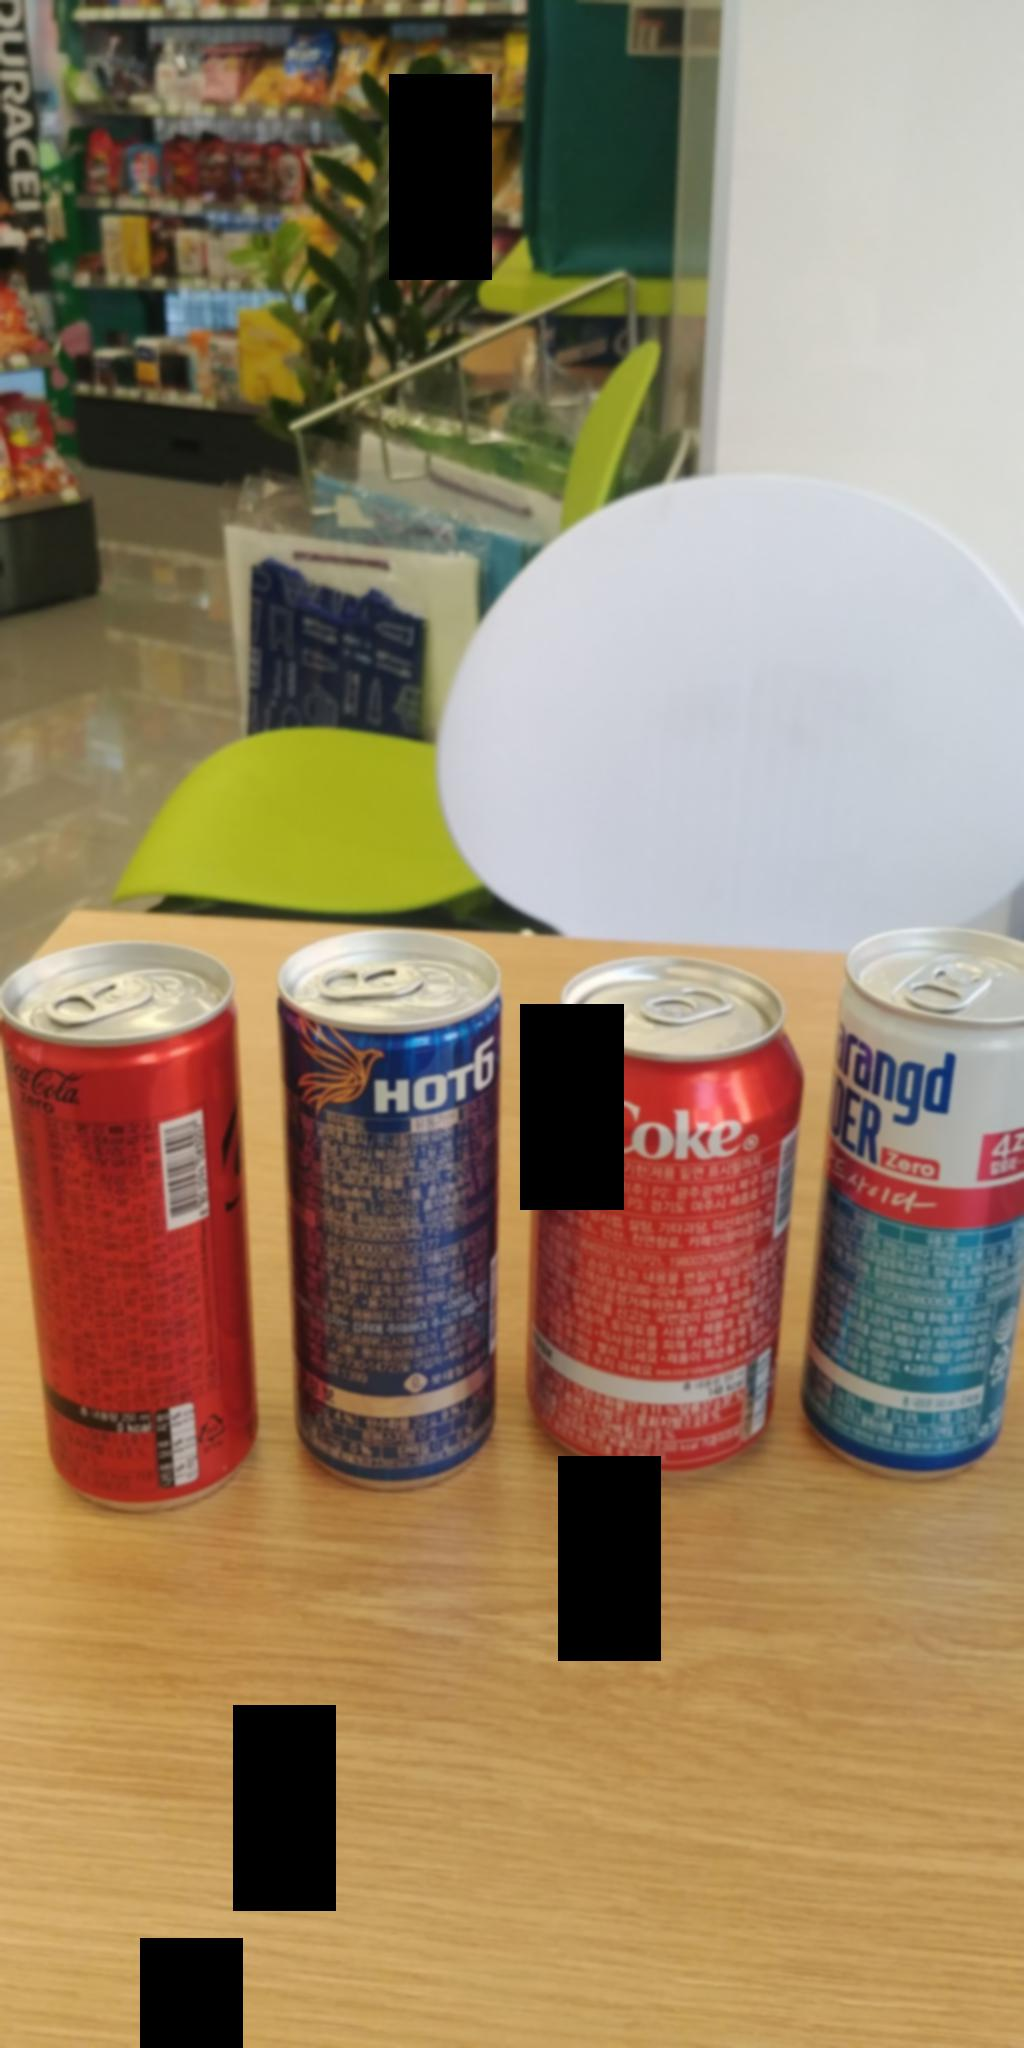cocacola: (515, 960, 818, 1486)
hotsix_org: (263, 920, 499, 1484)
narangdcider: (815, 891, 1024, 1484)
